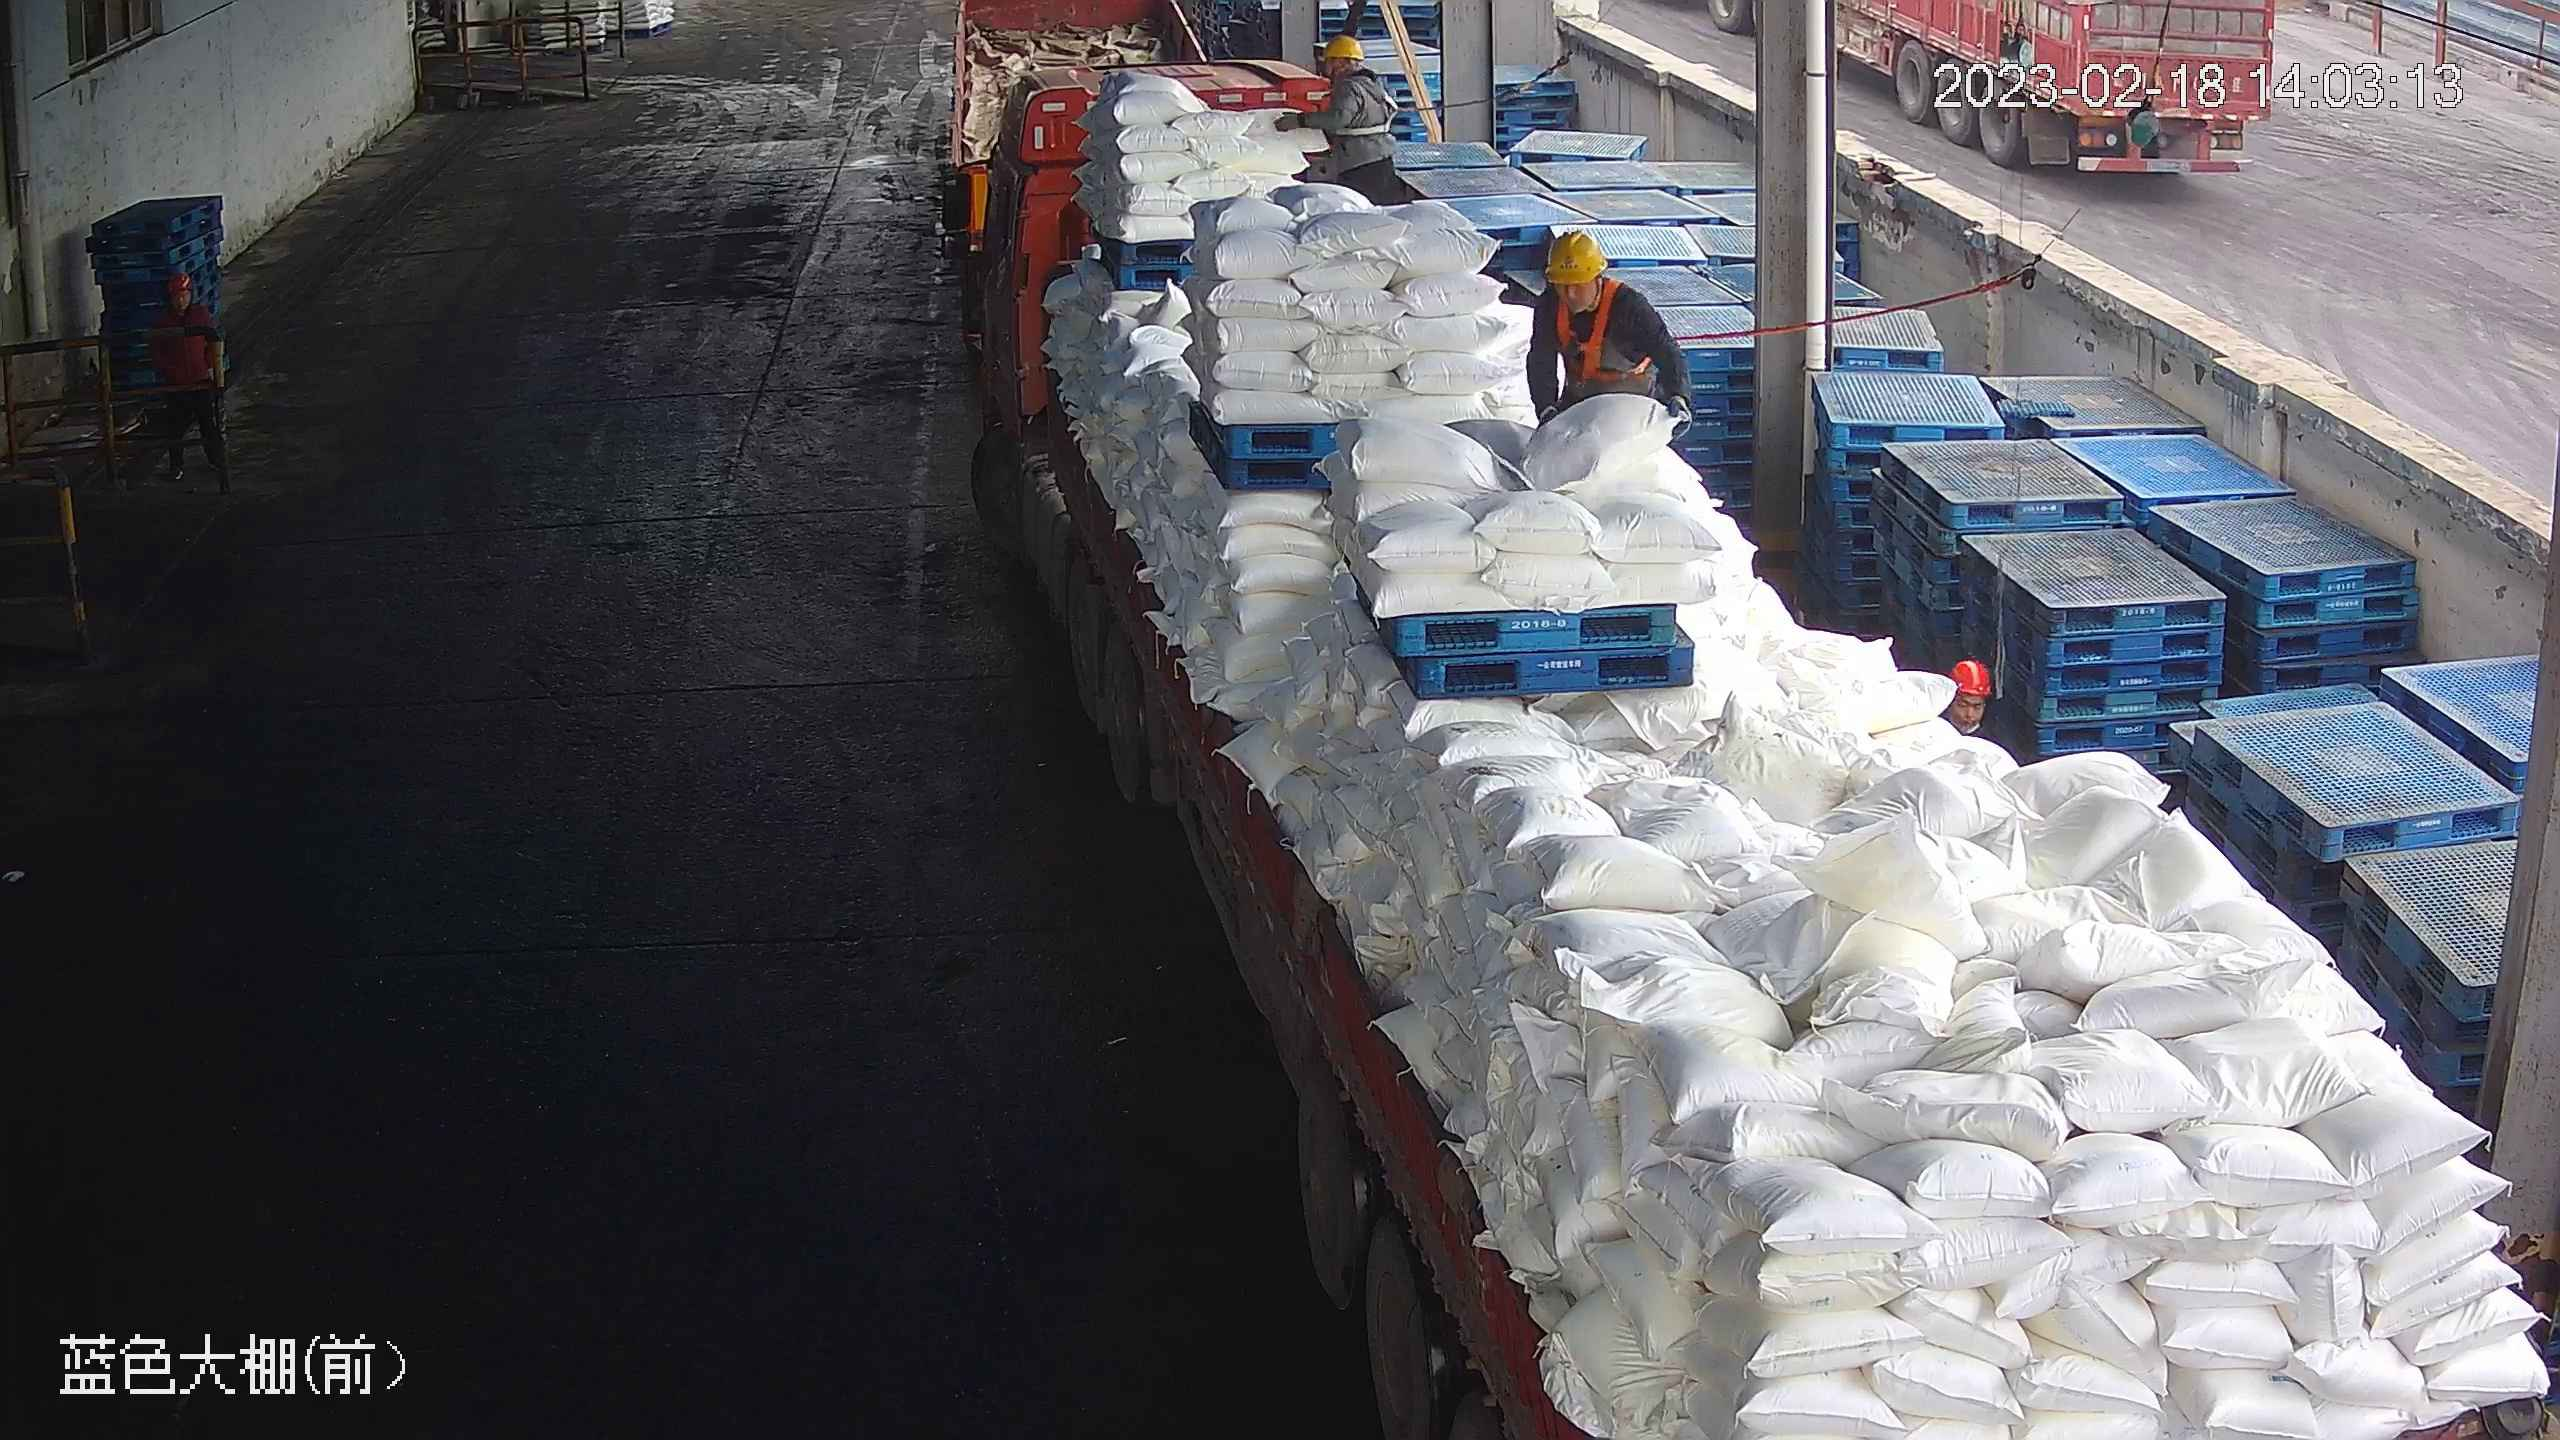belt: (1547, 275, 1649, 392), (1330, 73, 1395, 143)
head: (1527, 226, 1659, 341), (1307, 32, 1393, 107)
helmet: (1544, 224, 1612, 287), (1948, 657, 1992, 699), (1314, 31, 1365, 62)
people: (1522, 229, 1671, 435), (1281, 32, 1407, 202)
truck: (968, 128, 2558, 1439)
